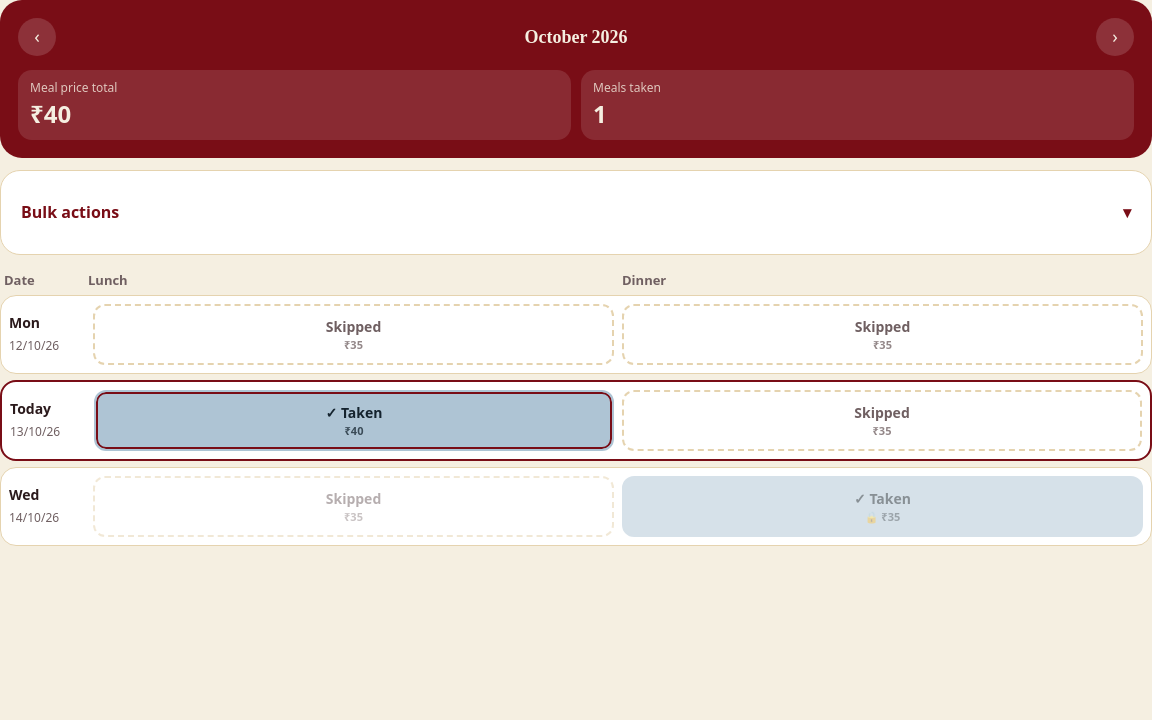
Scenario: editing the price in the sheet sends the custom price and marks it
Click the button named "Dinner on 13/10/26" at (882, 420), box [622,390,1142,451]
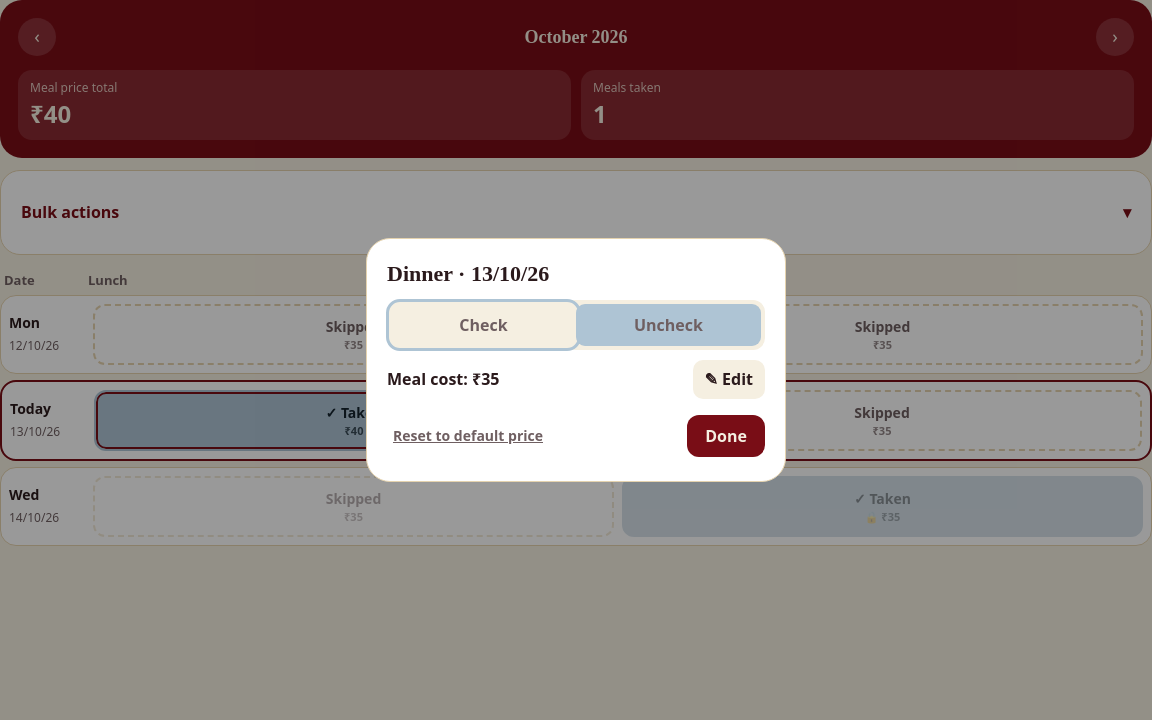
Click the button named "Edit price" at (729, 379), box [692,360,765,399]
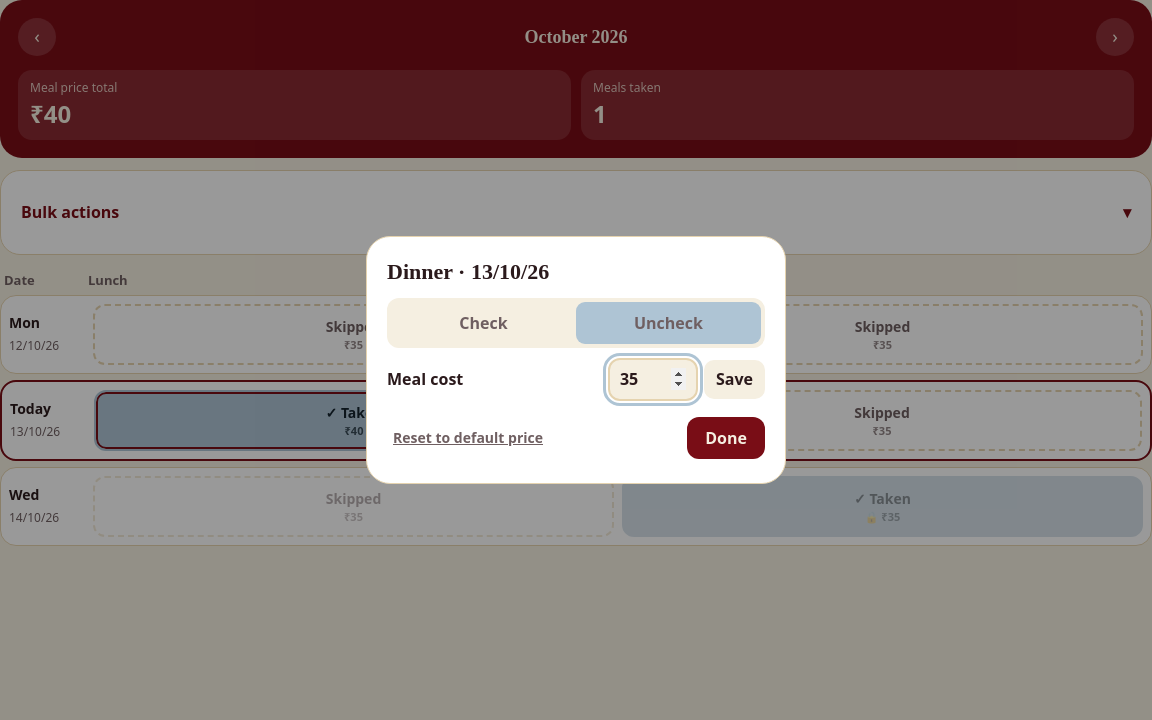
Result: the number field named "Meal cost" holds "35"
Replace the text in the number field named "Meal cost" with "60" at (653, 379), box [608,358,698,401]
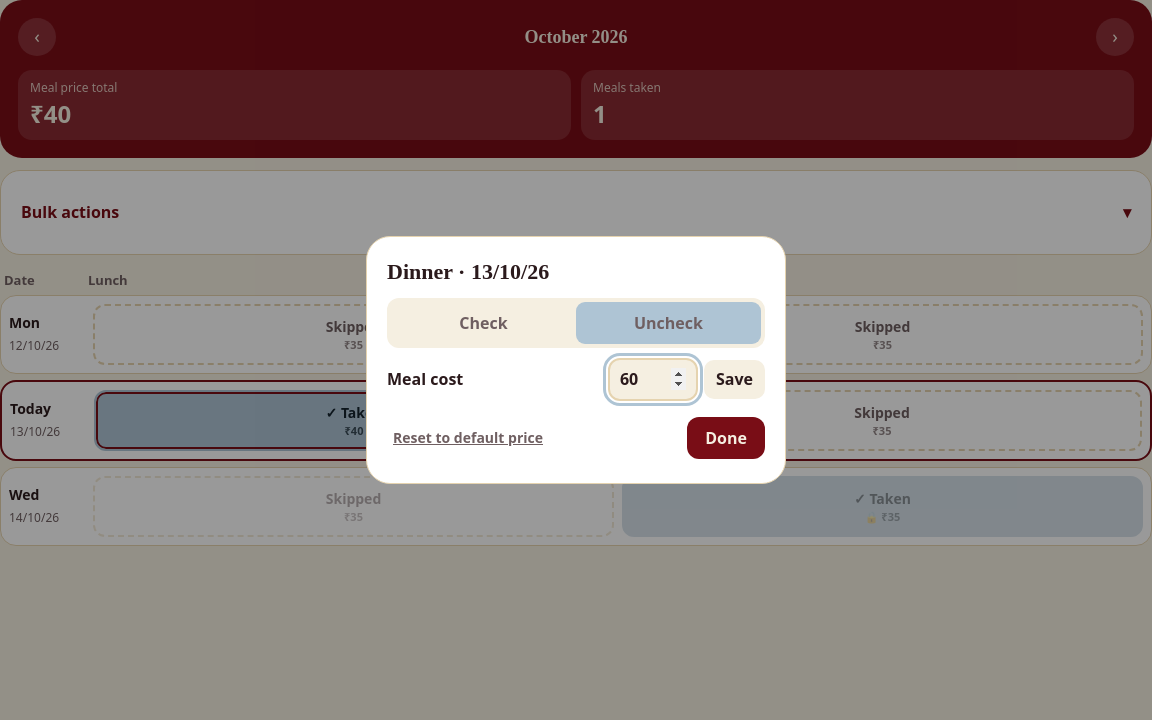
Click the button "Save" at (734, 379), box [704,360,765,399]
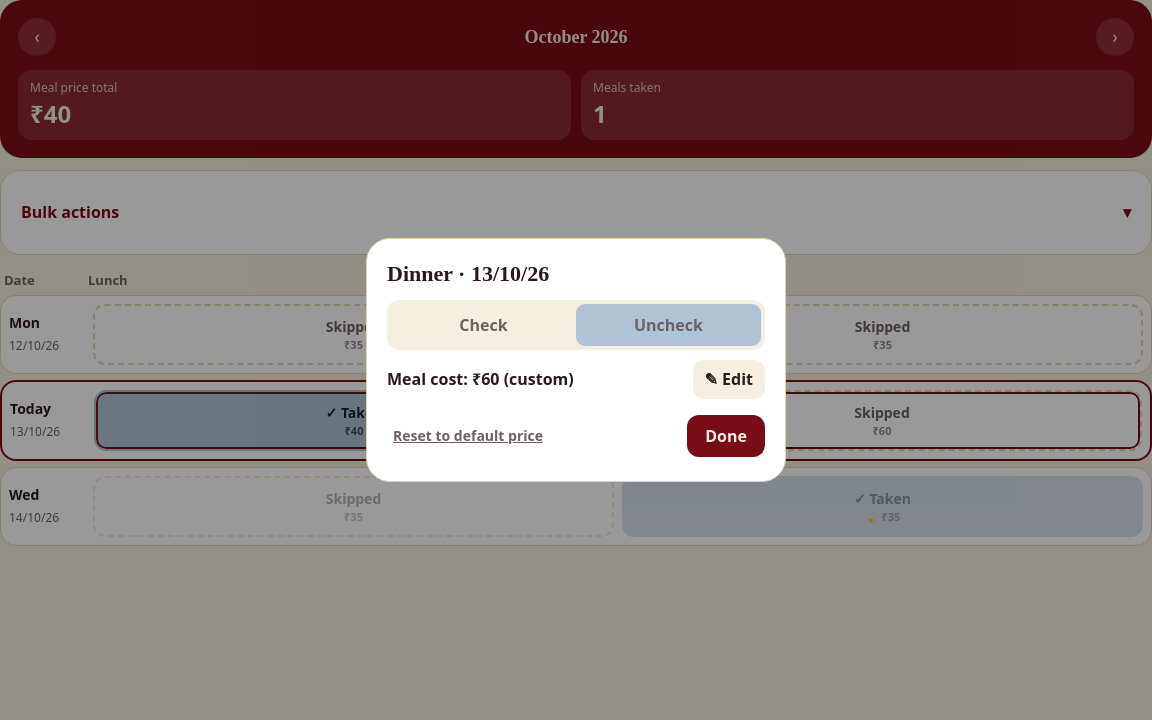
Result: the text "Meal cost: ₹60 (custom)" is shown at [387,368,574,391]
